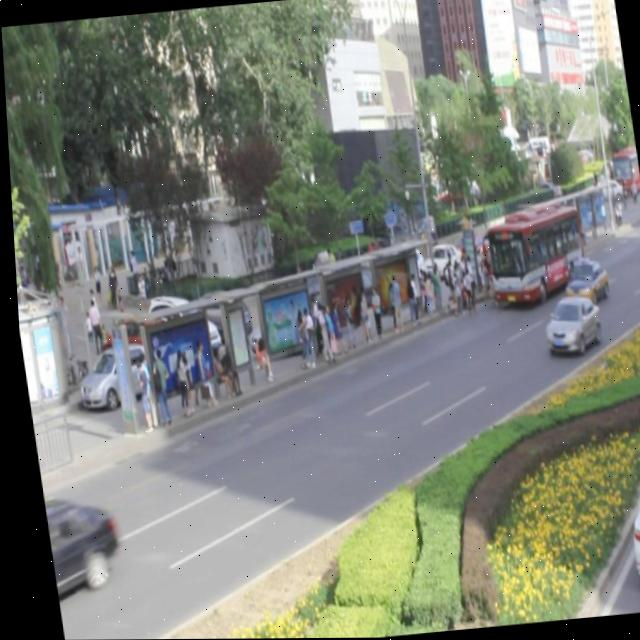car: (37, 490, 116, 597), (536, 292, 599, 355), (556, 255, 604, 305)
van: (476, 198, 586, 306)
